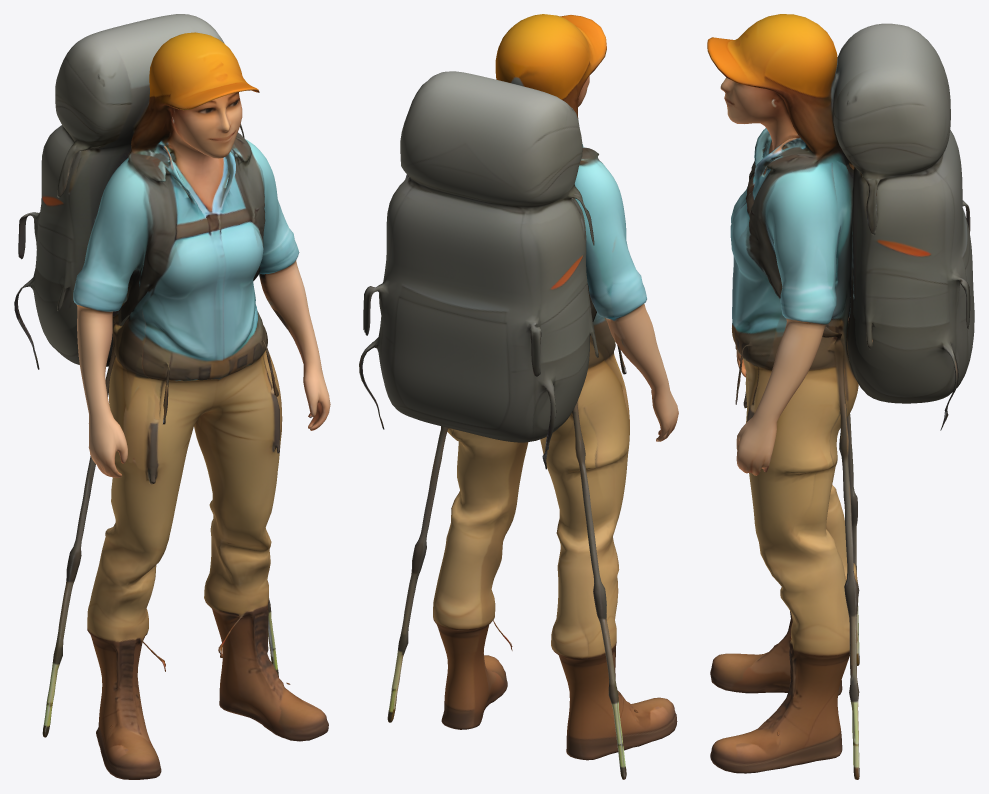
Rendered from wanderer.glb.
The picture shows the model from 3 angles, left to right: view 1: azimuth 30°, elevation 25°; view 2: azimuth 150°, elevation 25°; view 3: azimuth 270°, elevation 25°; orthographic projection.
Visible parts, largest first — view 1: model; view 2: model; view 3: model.
Part boxes in pixels (<box>): model: <box>14,14,330,779</box>; model: <box>359,14,678,779</box>; model: <box>707,14,974,779</box>.
Bounding box in the file's own units: 1.6 × 4.54 × 1.56.
Materials: 1 (1 with a texture image).
